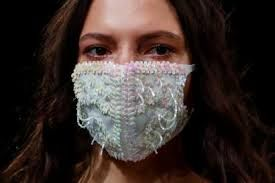with-mask: (61, 1, 210, 169)
